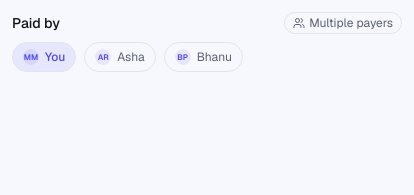
Test: PayersEditor › switching to multiple payers pre-fills an even split that adds up
Click the button "Multiple payers" at [343, 23], box [284, 12, 402, 34]
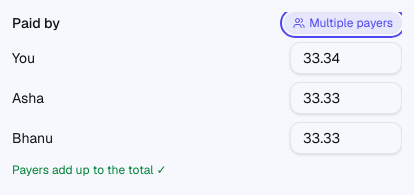
Expected: the number field named "paid by you" holds "33.34", [290, 42, 402, 74]
Expected: the number field named "paid by asha" holds "33.33", [290, 82, 402, 114]
Expected: the message shows "add up to the total", [12, 162, 166, 178]
